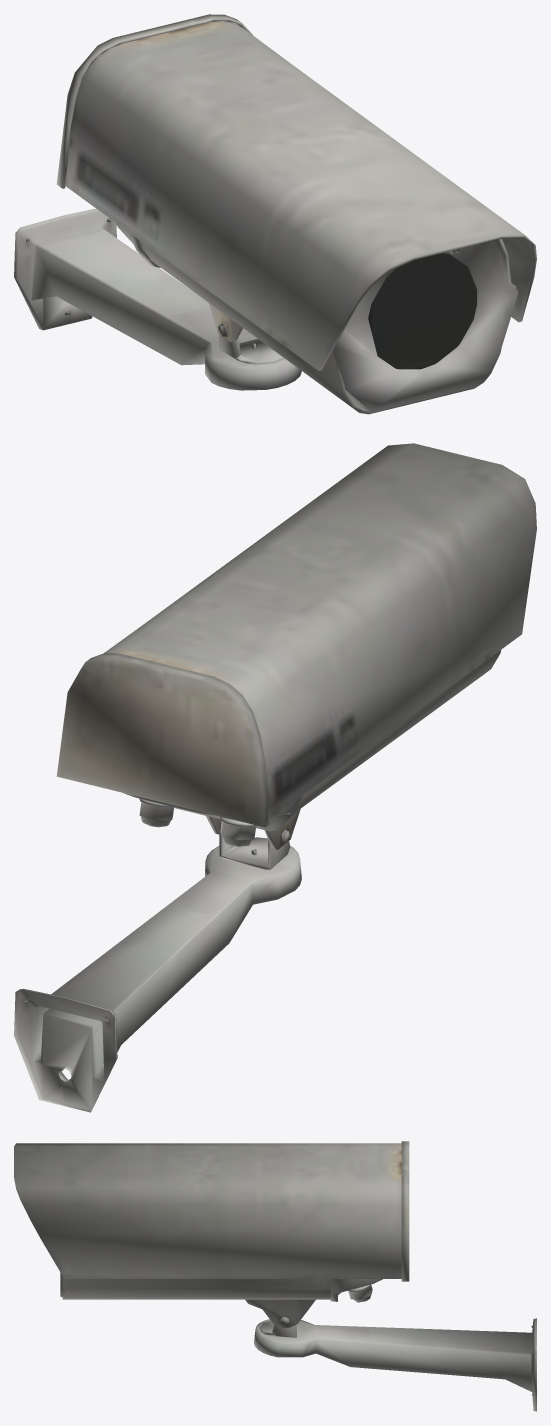
Rendered from cc0_security_camera.glb.
3 views of the same model, one above another, from view 1: azimuth 30°, elevation 25°; view 2: azimuth 150°, elevation 25°; view 3: azimuth 270°, elevation 25° (orthographic). The views are drawn at different scales.
Visible parts, largest first — view 1: security_camera_01; view 2: security_camera_01; view 3: security_camera_01.
Part boxes in pixels (x1,y1,x2,y2): security_camera_01: (14,14,536,414); security_camera_01: (14,443,536,1112); security_camera_01: (14,1141,536,1411).
Bounding box in the file's own units: 0.1696 × 0.2848 × 0.5536.
Materials: 2 (2 with a texture image).
